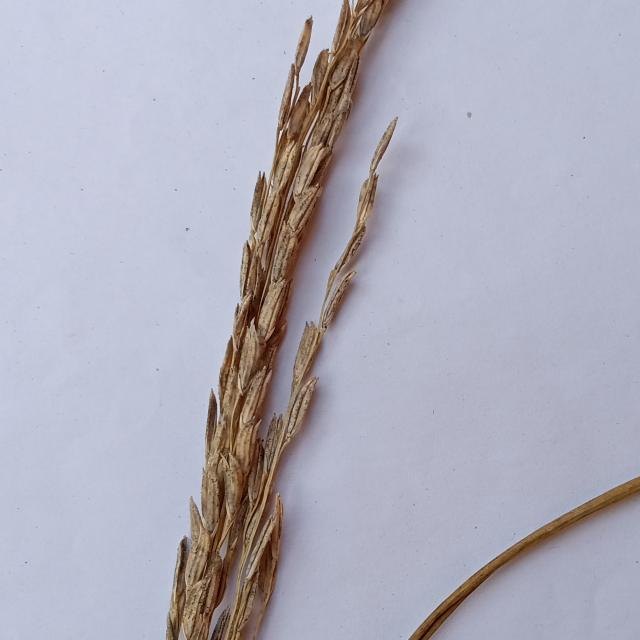Neck_Blast: (170, 2, 389, 639), (214, 129, 400, 637)
